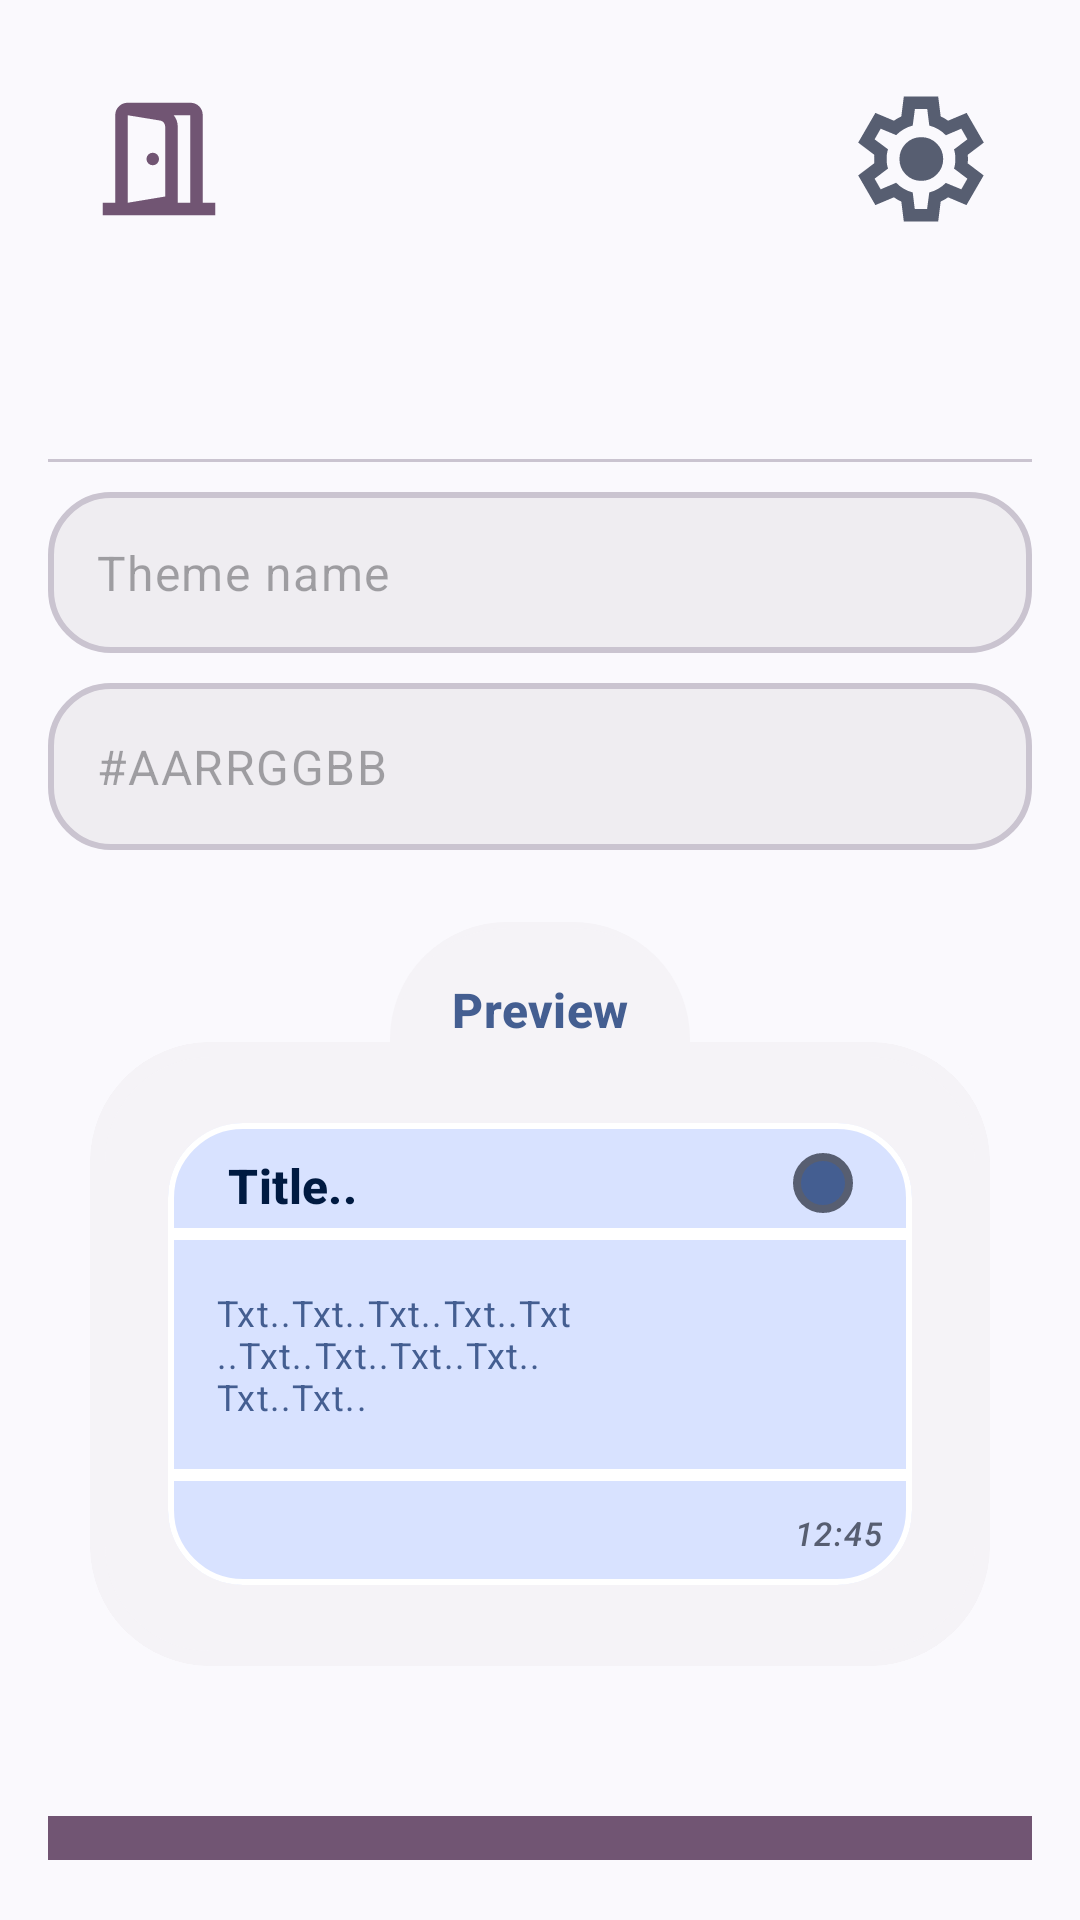

Where icons sit on this 1080px×1920px app screen, as (x1, y1, x2, y2):
door open: (102, 102, 216, 216)
settings: (858, 96, 984, 222)
